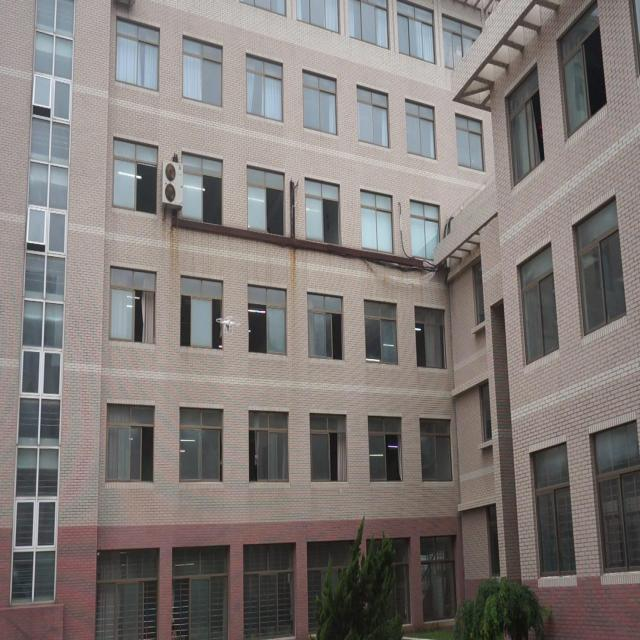UAV: (216, 315, 240, 335)
